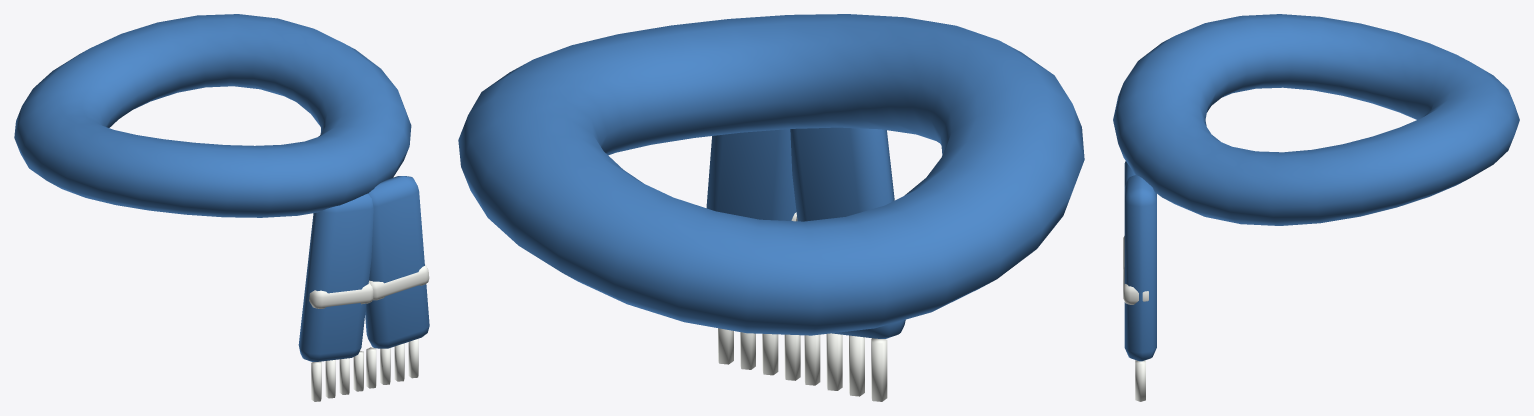
Rendered from event-muffler.glb.
3 views of the same model, side by side, from view 1: azimuth 30°, elevation 25°; view 2: azimuth 150°, elevation 25°; view 3: azimuth 270°, elevation 25° (orthographic). The views are drawn at different scales.
Parts seen in each view (by area): view 1: wrap; view 2: wrap; view 3: wrap.
Part boxes in pixels (<box>): wrap: <box>14,14,429,401</box>; wrap: <box>458,14,1084,401</box>; wrap: <box>1113,14,1519,401</box>.
Size of the model in its own units: 0.44 by 0.3142 by 0.44.
